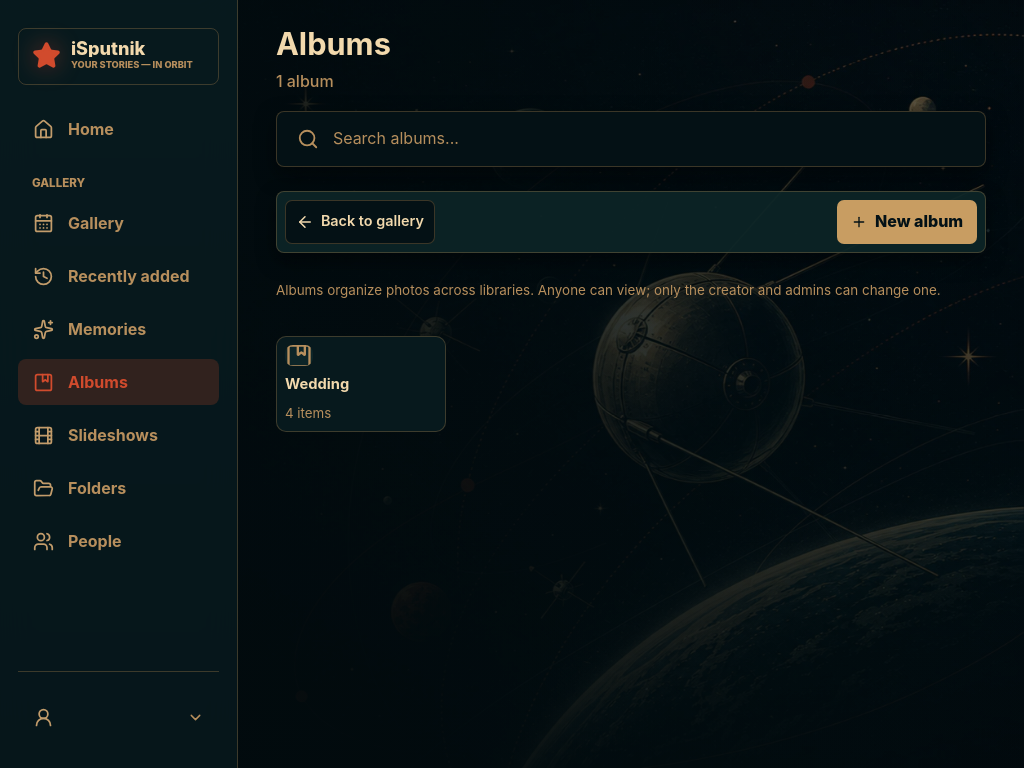
Test: GalleryPage views › draws the albums list and its create dialog
Expected: the text "Wedding" is shown, [285,374,349,396]
Click the button "New album" at x=907, y=222, box [837,200,977,244]
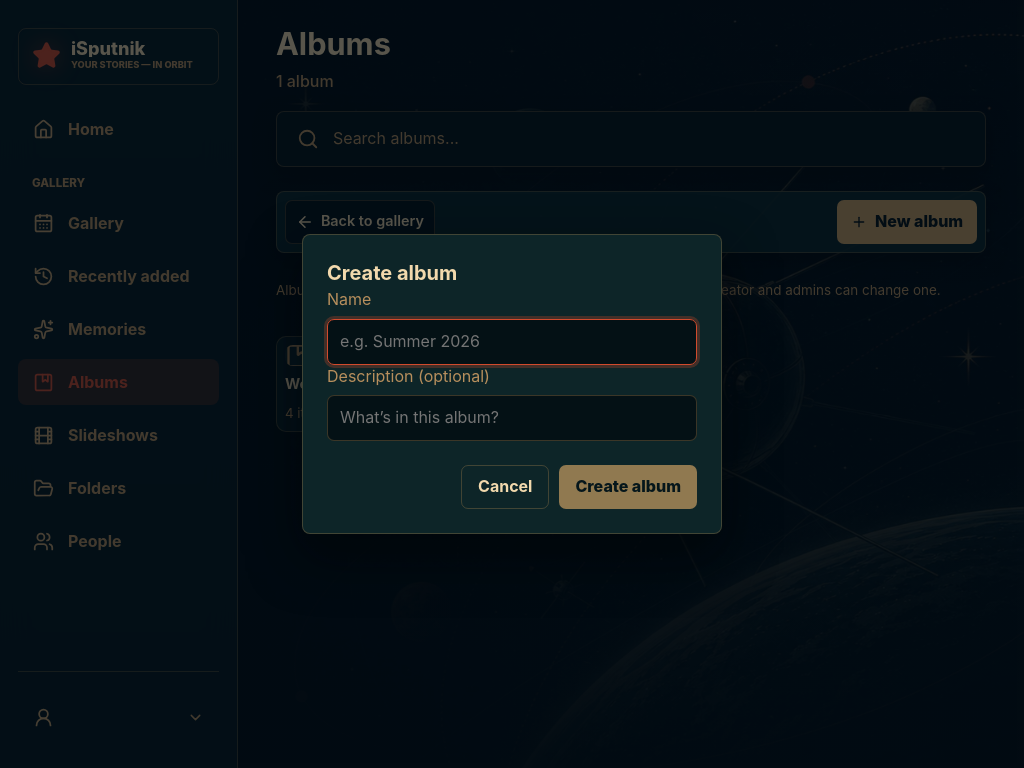
Result: the dialog "Create album" is shown at [302,234,722,534]
